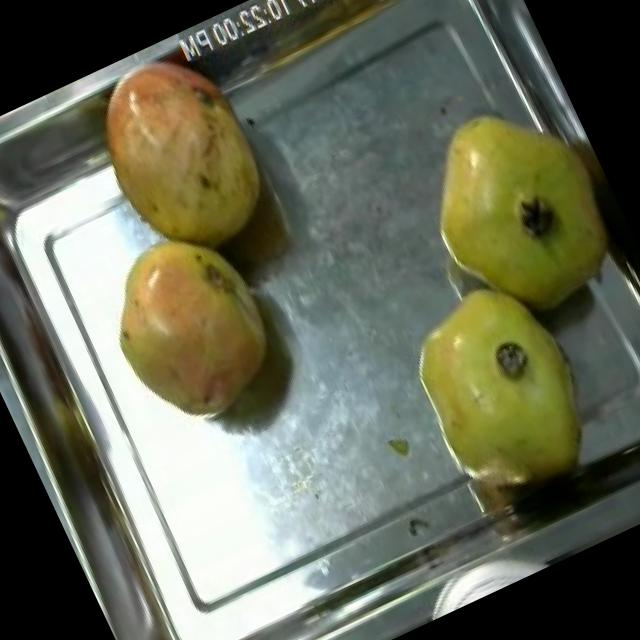fruit: (371, 241, 632, 533), (383, 65, 640, 358), (80, 203, 304, 452), (70, 30, 290, 280)
